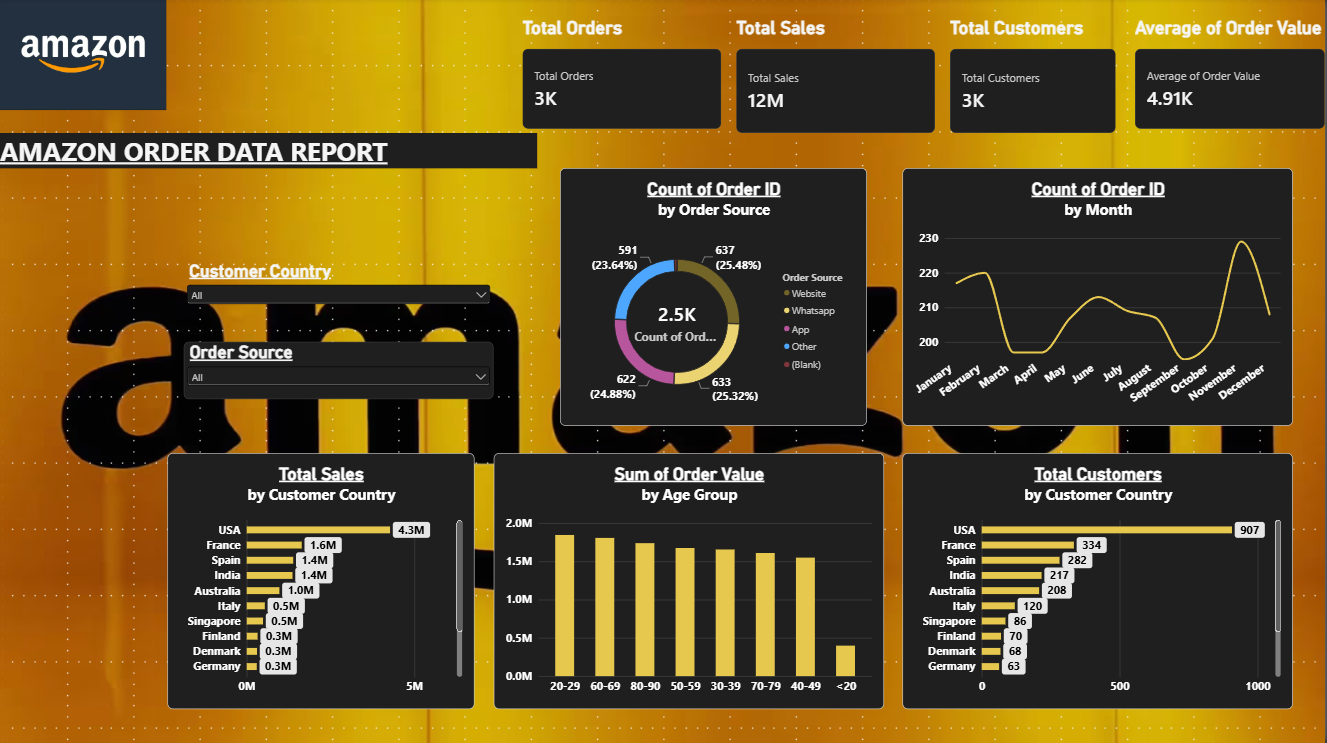

This screenshot's page, from the dashboard's own definition file:
{"tool":"powerbi","page":{"name":"Excutive Overview","canvas":[1920,1080],"ordinal":0},"visuals":[{"type":"cardVisual","title":"Average of Order Value","fields":{"Data":["Avg(Orders.Order Value)"]},"box":[1644.5,27.1,275.5,162.8],"z":0},{"type":"lineChart","fields":{"Category":["Orders.Order Datetime.Variation.Date Hierarchy.Month","Orders.Order Datetime.Variation.Date Hierarchy.Day"],"Y":["CountNonNull(Orders.Order ID)"]},"box":[1308.5,246.3,565.6,373.6],"z":1000},{"type":"donutChart","fields":{"Category":["Orders.Order Source"],"Y":["CountNonNull(Orders.Order ID)"]},"box":[811.8,246.3,444.5,373.6],"z":2000},{"type":"barChart","fields":{"Category":["Customers.Customer Country"],"Y":["Customers.Total Customers"]},"box":[1308.5,659.5,565.6,371.5],"z":3000},{"type":"cardVisual","title":"Total Sales","fields":{"Data":["Sales Targets.Total Sales"]},"box":[1066.4,27.1,288,169],"z":4000},{"type":"clusteredColumnChart","fields":{"Category":["Customers.Age Group"],"Y":["Sum(Orders.Order Value)"]},"box":[715.8,659.5,565.6,371.5],"z":5000},{"type":"barChart","fields":{"Category":["Customers.Customer Country"],"Y":["Sales Targets.Total Sales"]},"box":[242.1,659.5,444.5,371.5],"z":6000},{"type":"cardVisual","title":"Total Orders","fields":{"Data":["Orders.Total Orders"]},"box":[757.6,27.1,288,162.8],"z":7000},{"type":"cardVisual","title":"Total Customers","fields":{"Data":["Customers.Total Customers"]},"box":[1377.4,27.1,240,169],"z":8000},{"type":"slicer","fields":{"Values":["Orders.Order Source"]},"box":[267.1,498.8,448.7,83.5],"z":9000},{"type":"slicer","fields":{"Values":["Orders.Customer Country"]},"box":[267.1,379.8,448.7,106.4],"z":10000},{"type":"textbox","box":[0,196.1,778.4,51],"z":11000},{"type":"image","box":[0,0,241.2,162.7],"z":11001}]}

Visuals, with their boxes in screenshot pixels (x1, y1, x2, y2), scaled from the page's 1920x1080 canvas onto the 1327x743 screenshot:
"Average of Order Value" cardVisual: (x1=1137, y1=19, x2=1326, y2=131)
lineChart - Orders.Order Datetime.Variation.Date Hierarchy.Month x Orders.Order Datetime.Variation.Date Hierarchy.Day: (x1=904, y1=169, x2=1295, y2=426)
donutChart - Orders.Order Source x CountNonNull(Orders.Order ID): (x1=561, y1=169, x2=868, y2=426)
barChart - Customers.Customer Country x Customers.Total Customers: (x1=904, y1=454, x2=1295, y2=709)
"Total Sales" cardVisual: (x1=737, y1=19, x2=936, y2=135)
clusteredColumnChart - Customers.Age Group x Sum(Orders.Order Value): (x1=495, y1=454, x2=886, y2=709)
barChart - Customers.Customer Country x Sales Targets.Total Sales: (x1=167, y1=454, x2=475, y2=709)
"Total Orders" cardVisual: (x1=524, y1=19, x2=723, y2=131)
"Total Customers" cardVisual: (x1=952, y1=19, x2=1118, y2=135)
slicer - Orders.Order Source: (x1=185, y1=343, x2=495, y2=401)
slicer - Orders.Customer Country: (x1=185, y1=261, x2=495, y2=334)
textbox: (x1=0, y1=135, x2=538, y2=170)
image: (x1=0, y1=0, x2=167, y2=112)
